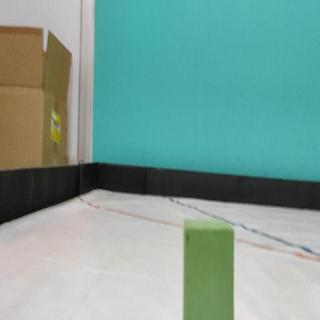greenbox: (181, 217, 236, 320)
